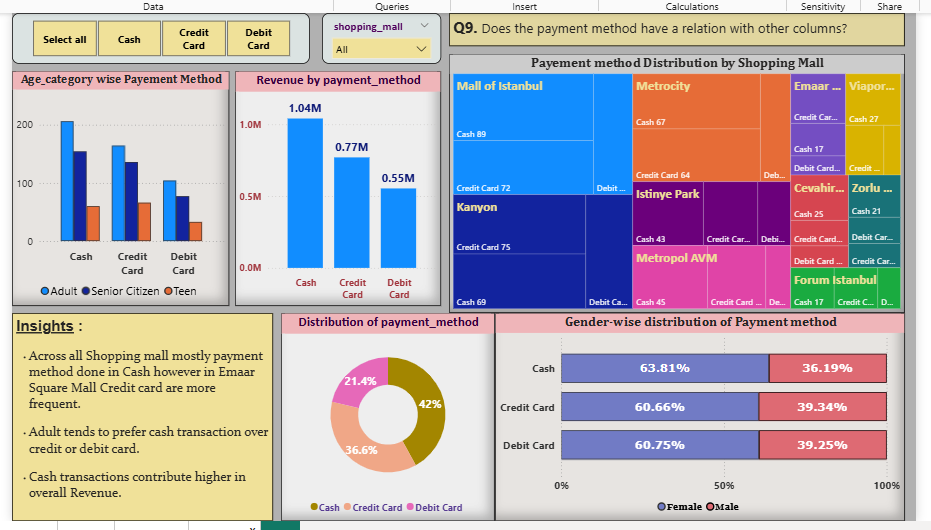

This screenshot's page, from the dashboard's own definition file:
{"tool":"powerbi","page":{"name":"Q9,10","canvas":[1280,720],"ordinal":3},"visuals":[{"type":"textbox","box":[619.4,0,646.3,46.8],"z":0},{"type":"hundredPercentStackedBarChart","title":"Gender-wise distribution of Payment method","fields":{"Category":["customer_data_team7.payment_method"],"Y":["CountNonNull(customer_data_team7.invoice_no)"],"Series":["customer_data_team7.gender"]},"box":[684.6,425.2,581.1,294.8],"z":1000},{"type":"clusteredColumnChart","title":"Age_category wise Payement Method","fields":{"Y":["CountNonNull(customer_data_team7.payment_method)"],"Series":["customer_data_team7.Age_Category"],"Category":["customer_data_team7.payment_method"]},"box":[0,82.2,307.6,333.1],"z":2000},{"type":"treemap","title":"Payement method Distribution by Shopping Mall","fields":{"Group":["customer_data_team7.shopping_mall"],"Details":["customer_data_team7.payment_method"],"Values":["CountNonNull(customer_data_team7.payment_method)"]},"box":[619.4,58.1,646.3,367.1],"z":3000},{"type":"columnChart","fields":{"Category":["customer_data_team7.payment_method"],"Y":["customer_data_team7.Revenue"]},"box":[316.1,82.2,292,333.1],"z":4000},{"type":"slicer","fields":{"Values":["customer_data_team7.payment_method"]},"box":[0,0,422.4,72.3],"z":5000},{"type":"textbox","box":[0,425.2,369.9,294.8],"z":6000},{"type":"slicer","fields":{"Values":["customer_data_team7.shopping_mall"]},"box":[439.4,0,168.7,72.3],"z":7000},{"type":"donutChart","title":"Distribution of  payment_method","fields":{"Category":["customer_data_team7.payment_method"],"Y":["CountNonNull(customer_data_team7.invoice_no)"]},"box":[381.3,425.2,303.3,294.8],"z":8000}]}

Visuals, with their boxes in screenshot pixels (x1, y1, x2, y2):
textbox: (x1=452, y1=7, x2=915, y2=41)
"Gender-wise distribution of Payment method" hundredPercentStackedBarChart: (x1=498, y1=312, x2=915, y2=524)
"Age_category wise Payement Method" clusteredColumnChart: (x1=7, y1=66, x2=228, y2=305)
"Payement method Distribution by Shopping Mall" treemap: (x1=452, y1=49, x2=915, y2=312)
columnChart - customer_data_team7.payment_method x customer_data_team7.Revenue: (x1=234, y1=66, x2=443, y2=305)
slicer - customer_data_team7.payment_method: (x1=7, y1=7, x2=310, y2=59)
textbox: (x1=7, y1=312, x2=273, y2=524)
slicer - customer_data_team7.shopping_mall: (x1=322, y1=7, x2=443, y2=59)
"Distribution of  payment_method" donutChart: (x1=281, y1=312, x2=498, y2=524)
